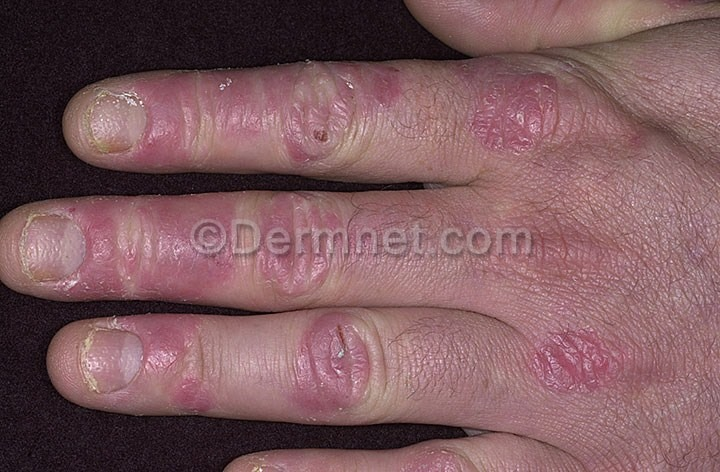Psoriasis: (82, 69, 441, 171), (28, 199, 246, 297), (66, 326, 237, 412), (513, 310, 665, 404), (269, 310, 382, 412), (459, 63, 568, 151), (260, 194, 351, 293)
